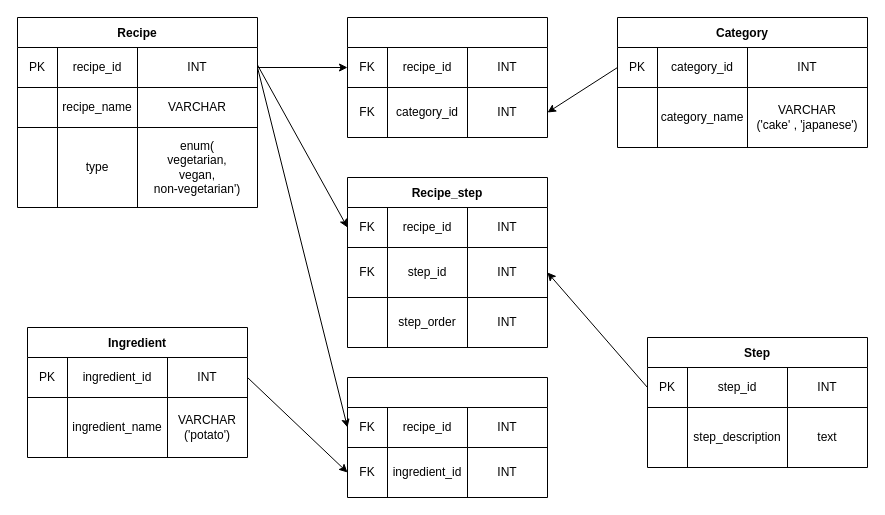
This 885x515 diagram has some shape labels left out. Here are the shapes that lost their labels. From the top down, the box of each, then its label:
(346, 16, 548, 138): Recipe_Category
(346, 376, 548, 498): Recipe_Ingredient
